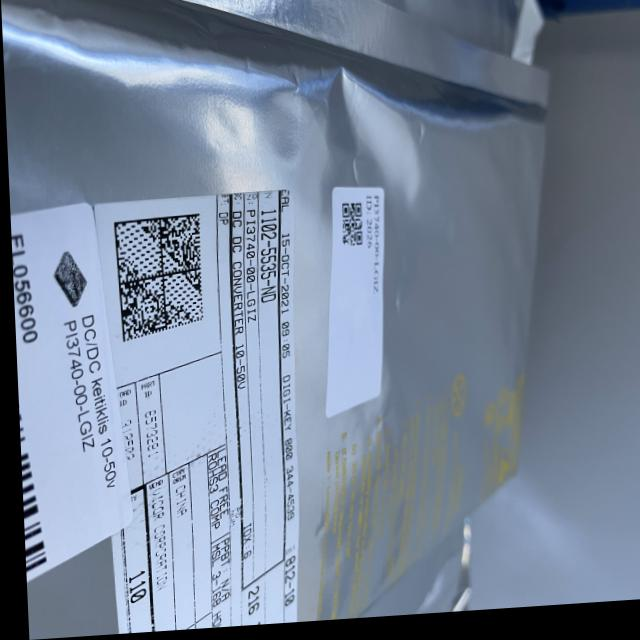datamatrix: (109, 213, 206, 350)
qrcode: (338, 206, 363, 253)
